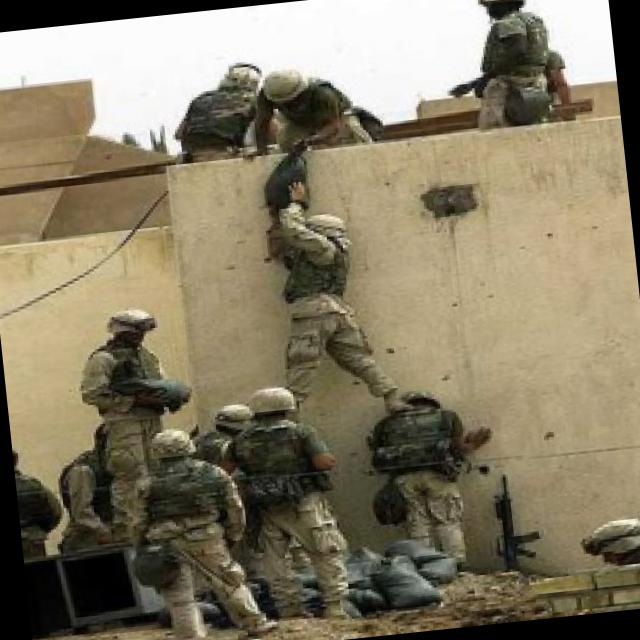long weapon: (474, 460, 552, 596)
